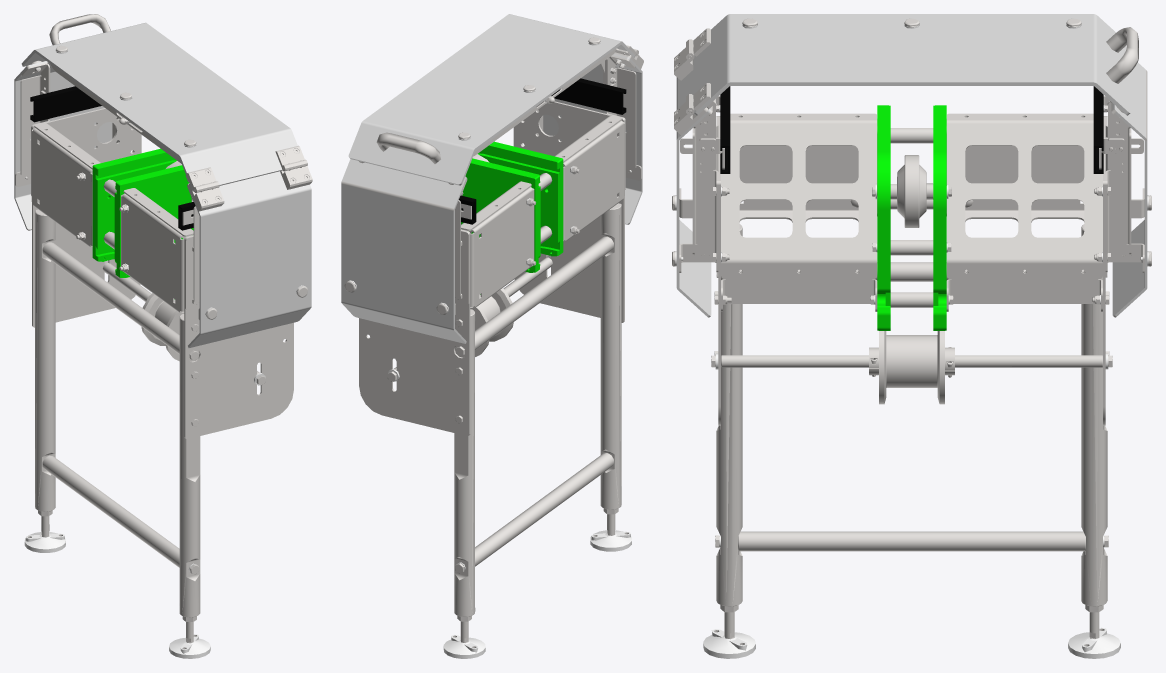
The picture shows the model from 3 angles, left to right: view 1: azimuth 30°, elevation 25°; view 2: azimuth 150°, elevation 25°; view 3: azimuth 270°, elevation 25°; orthographic projection. The views are drawn at different scales.
Visible parts, largest first — view 1: base, glass; view 2: base, glass; view 3: base, glass.
Boxes of the visible parts, x1,y1,x2,y2 form: base: (14, 14, 312, 658); glass: (14, 22, 311, 347); base: (341, 37, 643, 658); glass: (341, 14, 642, 343); base: (672, 18, 1151, 658); glass: (676, 14, 1147, 317).
Bounding box in the file's own units: 0.267 × 1.06 × 0.726.
Materials: 1 (1 with a texture image).
